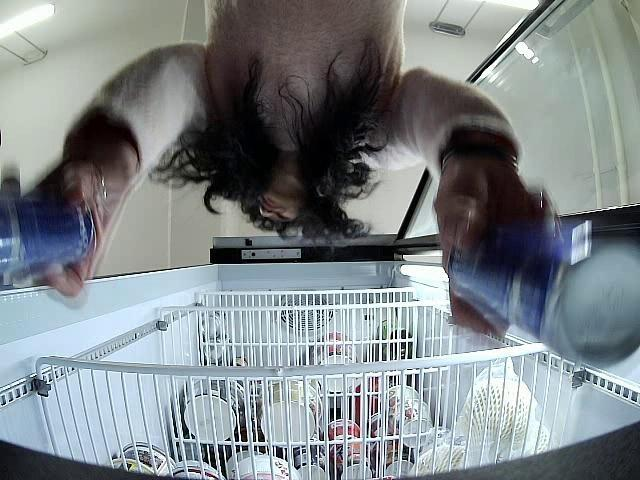16_hot6: (443, 207, 640, 368), (0, 180, 102, 286)
